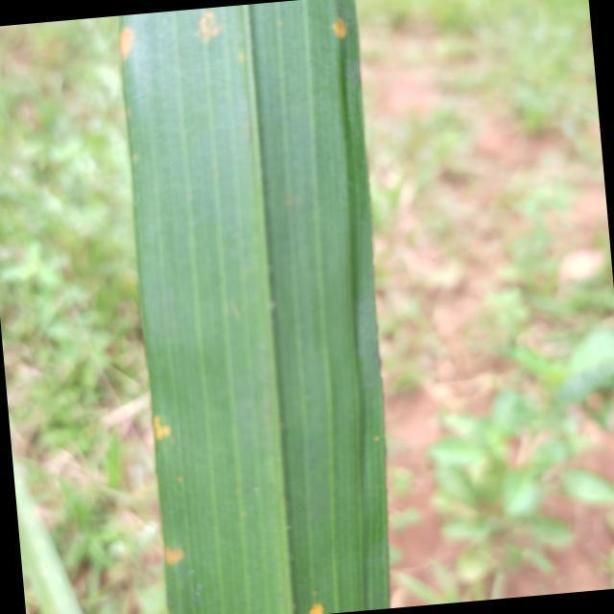Kalium: (118, 0, 390, 614)
